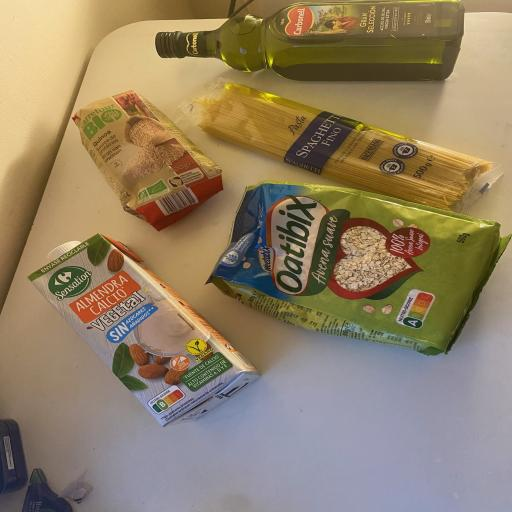almond_milk: (24, 233, 256, 427)
oats: (206, 178, 508, 358)
olive_oil: (151, 2, 470, 79)
quinoa: (69, 88, 225, 232)
spaghetti: (194, 79, 498, 213)
